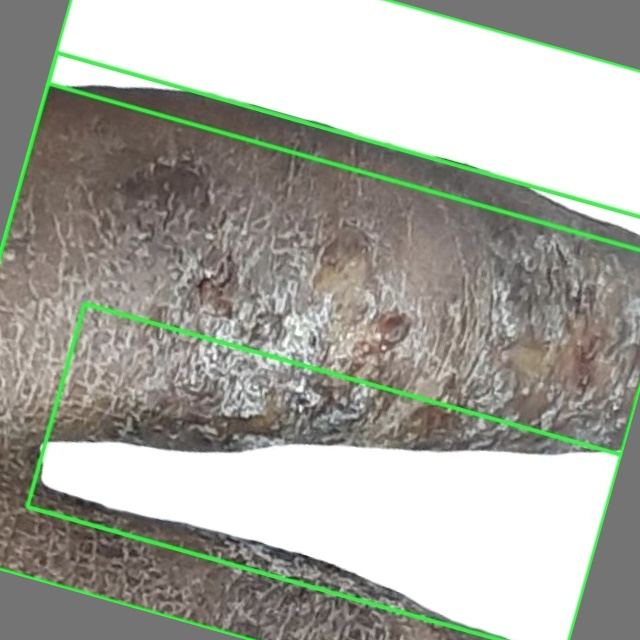Eczema: (0, 51, 639, 639), (26, 302, 621, 639), (47, 0, 639, 250)
